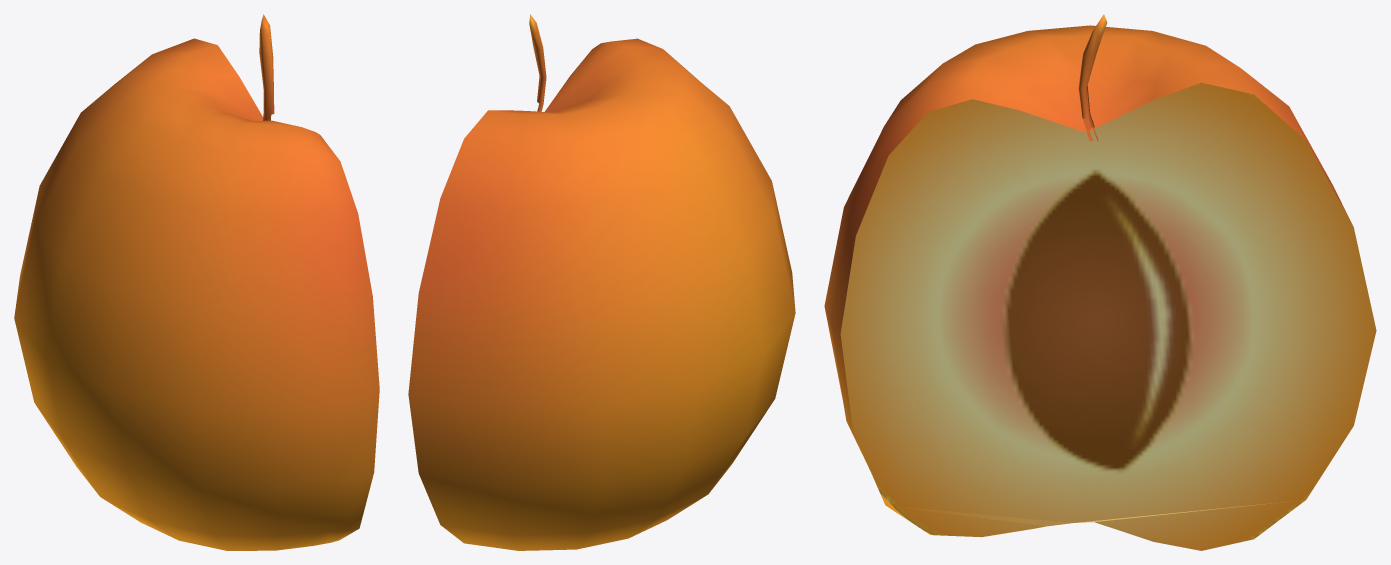
Rendered from apricotS.FBX.
3 views of the same model, side by side, from view 1: azimuth 30°, elevation 25°; view 2: azimuth 150°, elevation 25°; view 3: azimuth 270°, elevation 25° (orthographic). The views are drawn at different scales.
Visible parts, largest first — view 1: Apricot001; view 2: Apricot001; view 3: Apricot001.
Boxes of the visible parts, x1,y1,x2,y2 form: Apricot001: (14,14,379,550); Apricot001: (408,14,795,550); Apricot001: (824,14,1376,550).
Bounding box in the file's own units: 2.21 × 4.5 × 4.18.
